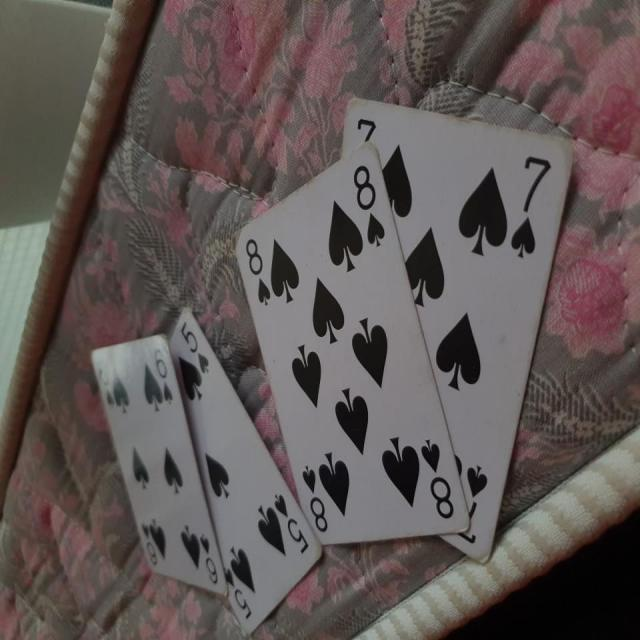5 Spades: (152, 293, 323, 640)
6 Spades: (74, 328, 225, 607)
7 Spades: (326, 64, 584, 580)
8 Spades: (218, 158, 471, 555)
